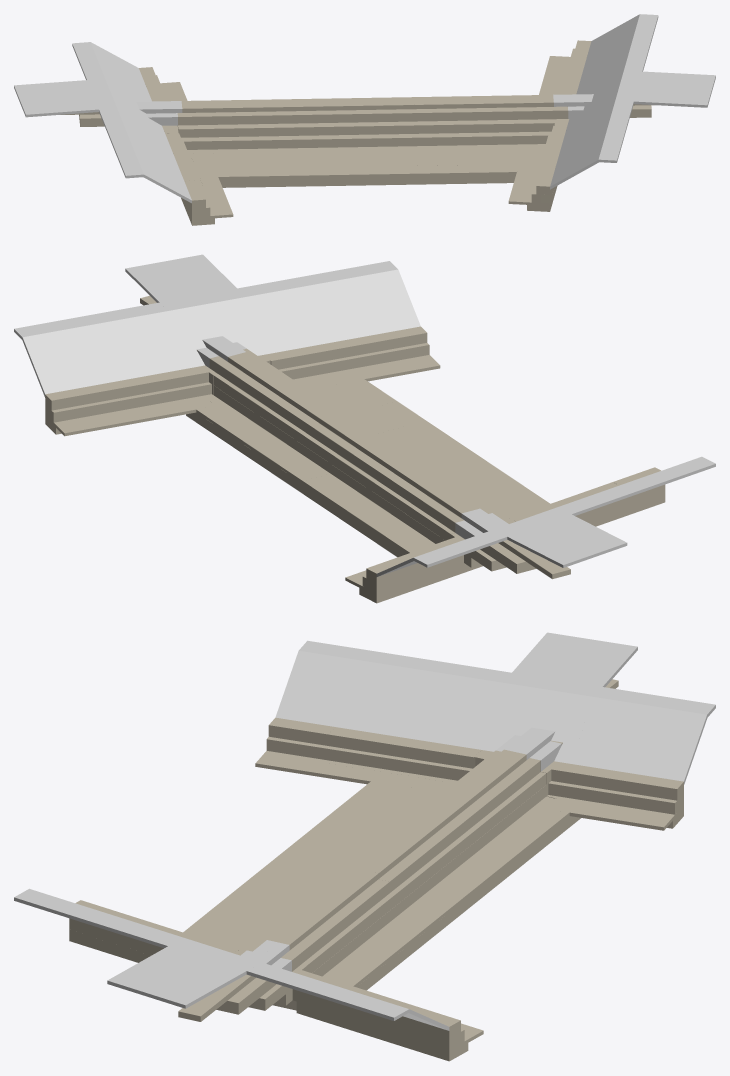
Rendered from 500125-CSSP001-560-XX-MD-HD-003123.glb.
3 views of the same model, one above another, from view 1: azimuth 30°, elevation 25°; view 2: azimuth 150°, elevation 25°; view 3: azimuth 270°, elevation 25° (orthographic). The views are drawn at different scales.
Visible parts, largest first — view 1: 500125-CSSP001-560-XX-MD-HD-003123#GAV001, 500125-CSSP001-560-XX-MD-HD-003123#GAV002, 500125-CSSP001-560-XX-MD-HD-003123#OTR002, 500125-CSSP001-560-XX-MD-HD-003123#OTR001; view 2: 500125-CSSP001-560-XX-MD-HD-003123#OTR002, 500125-CSSP001-560-XX-MD-HD-003123#GAV001, 500125-CSSP001-560-XX-MD-HD-003123#GAV002, 500125-CSSP001-560-XX-MD-HD-003123#OTR001; view 3: 500125-CSSP001-560-XX-MD-HD-003123#GAV001, 500125-CSSP001-560-XX-MD-HD-003123#OTR001, 500125-CSSP001-560-XX-MD-HD-003123#GAV002, 500125-CSSP001-560-XX-MD-HD-003123#OTR002.
Part boxes in pixels (x1,y1,x2,y2): 500125-CSSP001-560-XX-MD-HD-003123#GAV001: [61, 67, 464, 225]; 500125-CSSP001-560-XX-MD-HD-003123#GAV002: [414, 40, 654, 211]; 500125-CSSP001-560-XX-MD-HD-003123#OTR002: [550, 14, 715, 189]; 500125-CSSP001-560-XX-MD-HD-003123#OTR001: [14, 42, 191, 203]; 500125-CSSP001-560-XX-MD-HD-003123#OTR002: [14, 254, 420, 397]; 500125-CSSP001-560-XX-MD-HD-003123#GAV001: [303, 401, 665, 603]; 500125-CSSP001-560-XX-MD-HD-003123#GAV002: [45, 295, 440, 493]; 500125-CSSP001-560-XX-MD-HD-003123#OTR001: [376, 456, 715, 576]; 500125-CSSP001-560-XX-MD-HD-003123#GAV001: [214, 679, 683, 915]; 500125-CSSP001-560-XX-MD-HD-003123#OTR001: [275, 632, 715, 784]; 500125-CSSP001-560-XX-MD-HD-003123#GAV002: [69, 868, 483, 1061]; 500125-CSSP001-560-XX-MD-HD-003123#OTR002: [14, 888, 449, 1030].
Bounding box in the file's own units: 71.62 × 7.5 × 55.15.
